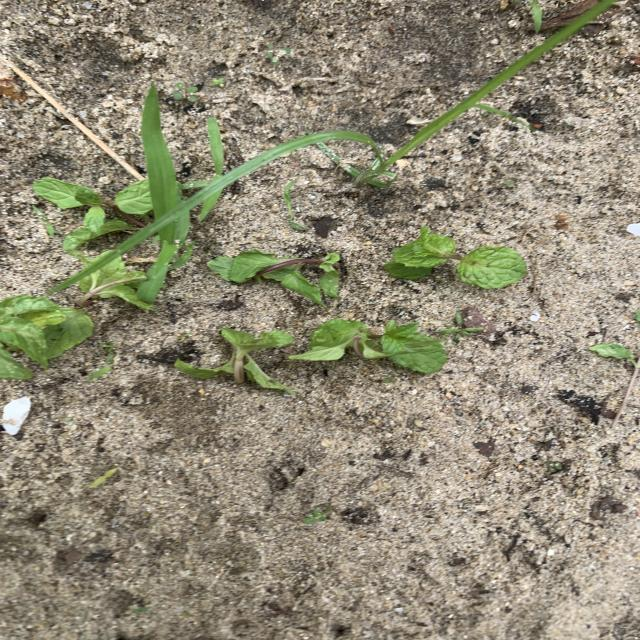crop: (48, 260, 153, 358), (384, 227, 526, 289), (33, 178, 152, 249), (296, 319, 447, 373), (175, 328, 294, 394), (207, 250, 340, 304), (0, 295, 55, 380), (589, 343, 640, 427), (634, 310, 640, 323)
weed: (54, 0, 616, 291), (137, 211, 193, 302), (179, 117, 224, 190), (283, 179, 310, 232), (439, 312, 483, 343), (88, 343, 116, 380), (300, 504, 332, 525), (89, 468, 119, 490), (265, 46, 292, 65), (172, 83, 198, 101), (531, 0, 542, 33), (211, 77, 227, 88)
